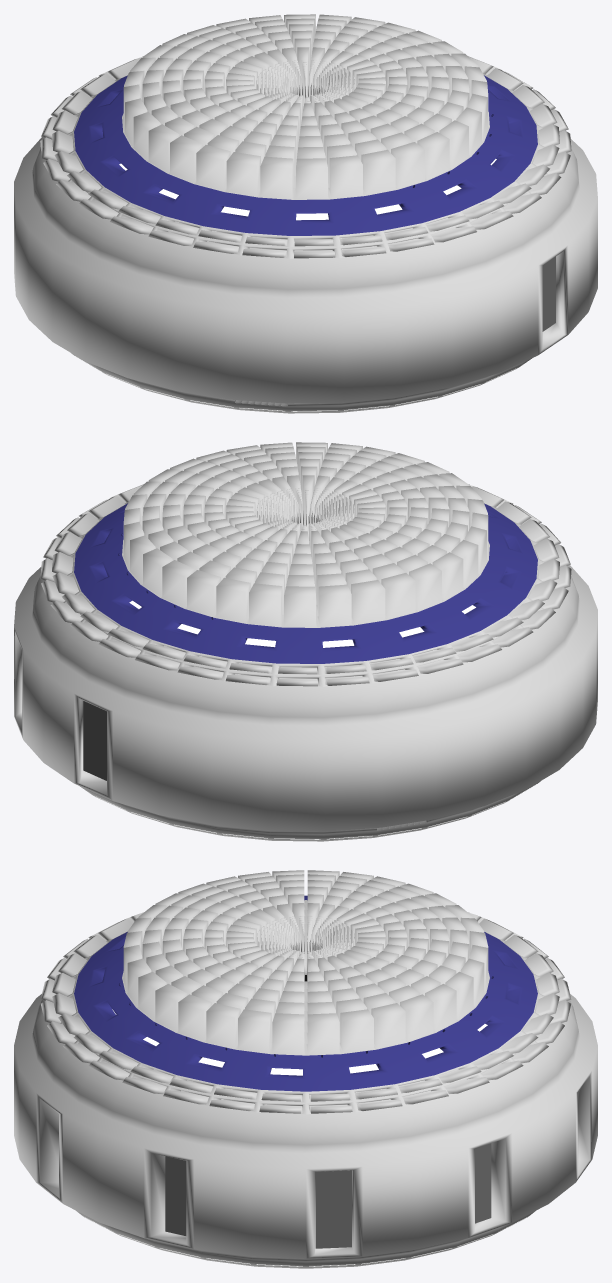
File: usina.glb
3 renders of one model, top to bottom at view 1: azimuth 30°, elevation 25°; view 2: azimuth 150°, elevation 25°; view 3: azimuth 270°, elevation 25°, orthographic.
Visible parts, largest first — view 1: Cylinder, Cylinder.012, Cylinder.010, Cylinder.014, Cylinder.003; view 2: Cylinder, Cylinder.012, Cylinder.010, Cylinder.014, Cylinder.003; view 3: Cylinder, Cylinder.012, Cylinder.010, Cylinder.014, Cylinder.003.
Part boxes in pixels (x1=…): Cylinder: x1=14, y1=14, x2=597, y2=413; Cylinder.012: x1=74, y1=75, x2=537, y2=235; Cylinder.010: x1=542, y1=256, x2=555, y2=331; Cylinder.014: x1=73, y1=354, x2=531, y2=411; Cylinder.003: x1=119, y1=159, x2=496, y2=220; Cylinder: x1=14, y1=442, x2=597, y2=841; Cylinder.012: x1=74, y1=503, x2=537, y2=663; Cylinder.010: x1=83, y1=701, x2=106, y2=780; Cylinder.014: x1=80, y1=782, x2=538, y2=839; Cylinder.003: x1=129, y1=600, x2=475, y2=647; Cylinder: x1=14, y1=870, x2=597, y2=1268; Cylinder.012: x1=74, y1=895, x2=537, y2=1091; Cylinder.010: x1=165, y1=1143, x2=491, y2=1248; Cylinder.014: x1=83, y1=1216, x2=528, y2=1267; Cylinder.003: x1=112, y1=1009, x2=487, y2=1075.
Bounding box in the file's own units: 32 × 15.38 × 32.
